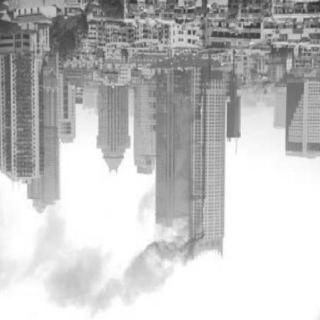Smoke: (119, 250, 159, 288)
